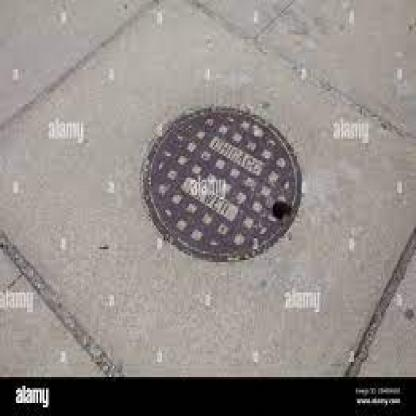closed manhole-not overflowing-: (139, 106, 304, 265)
